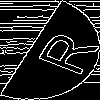R: (25, 25, 100, 78)
